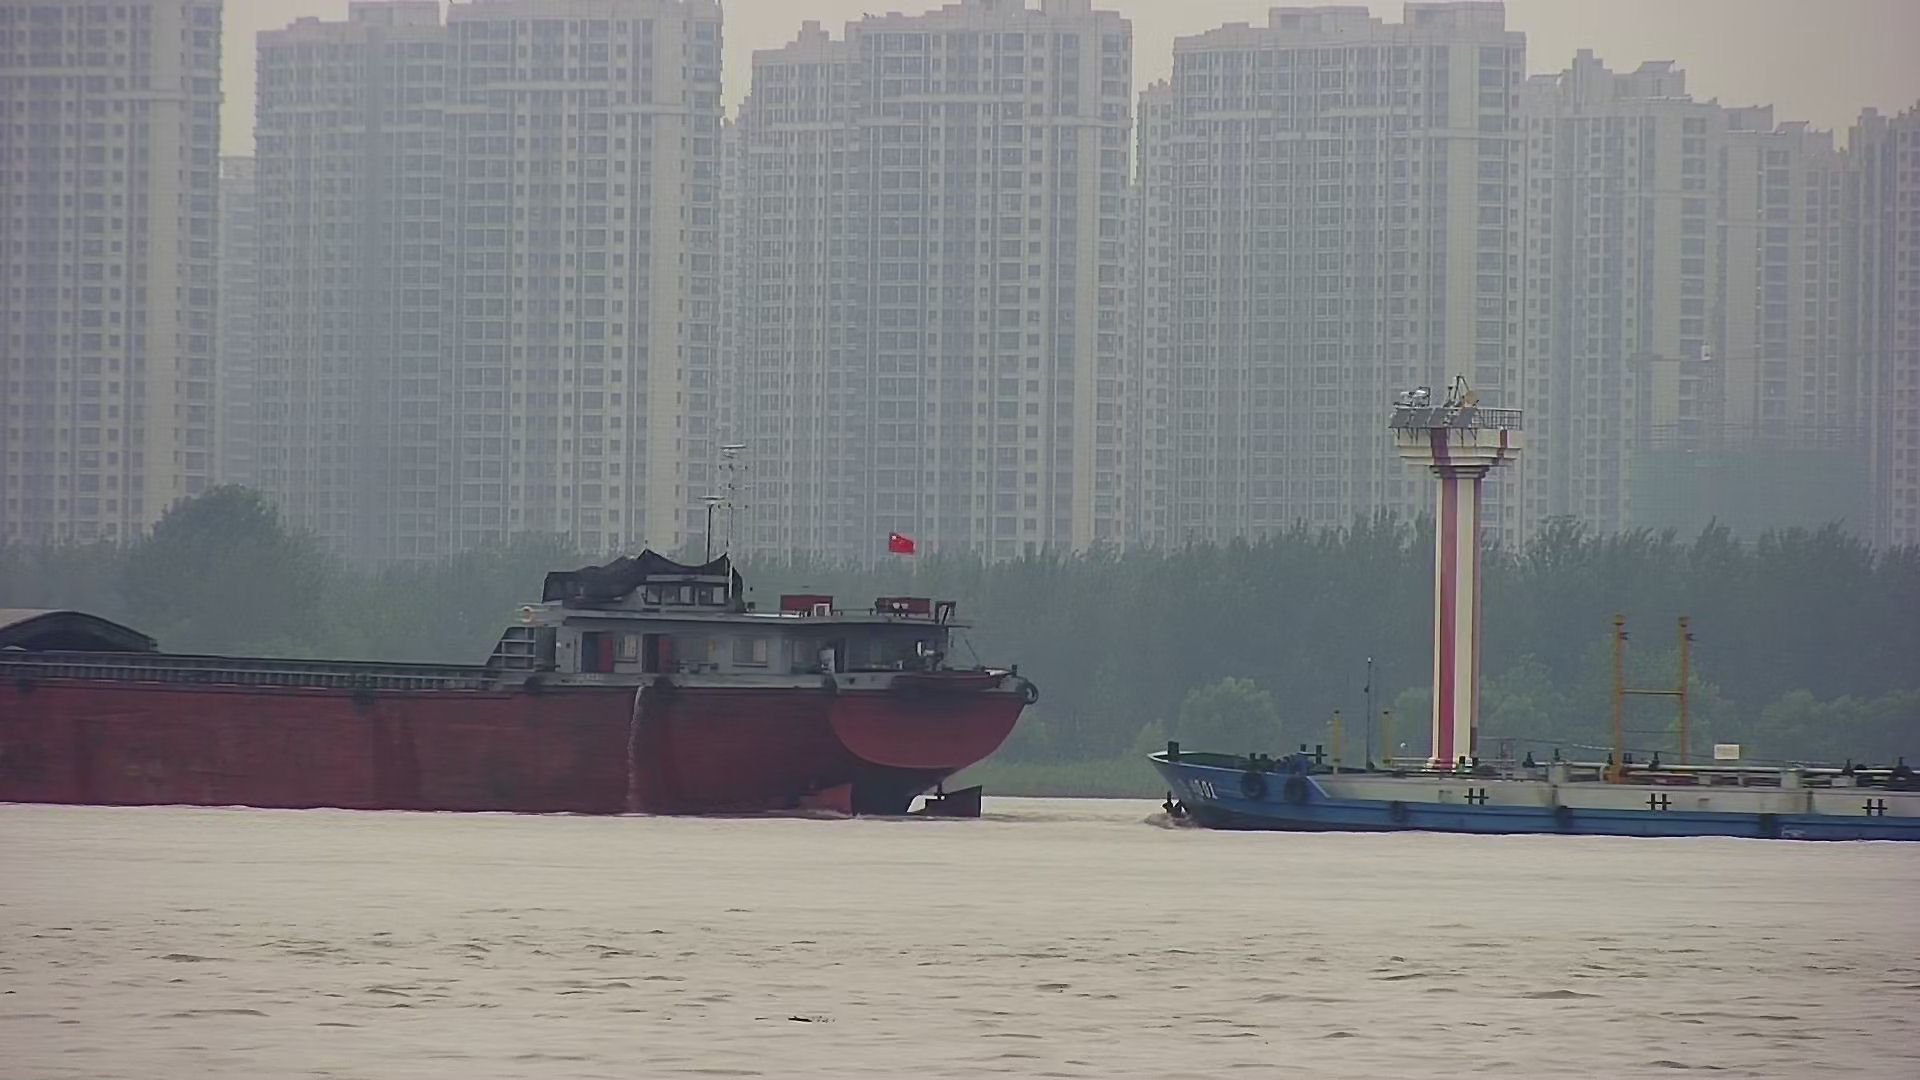platform: (1393, 368, 1520, 864)
ship: (1, 473, 1040, 823), (1135, 613, 1920, 848)
